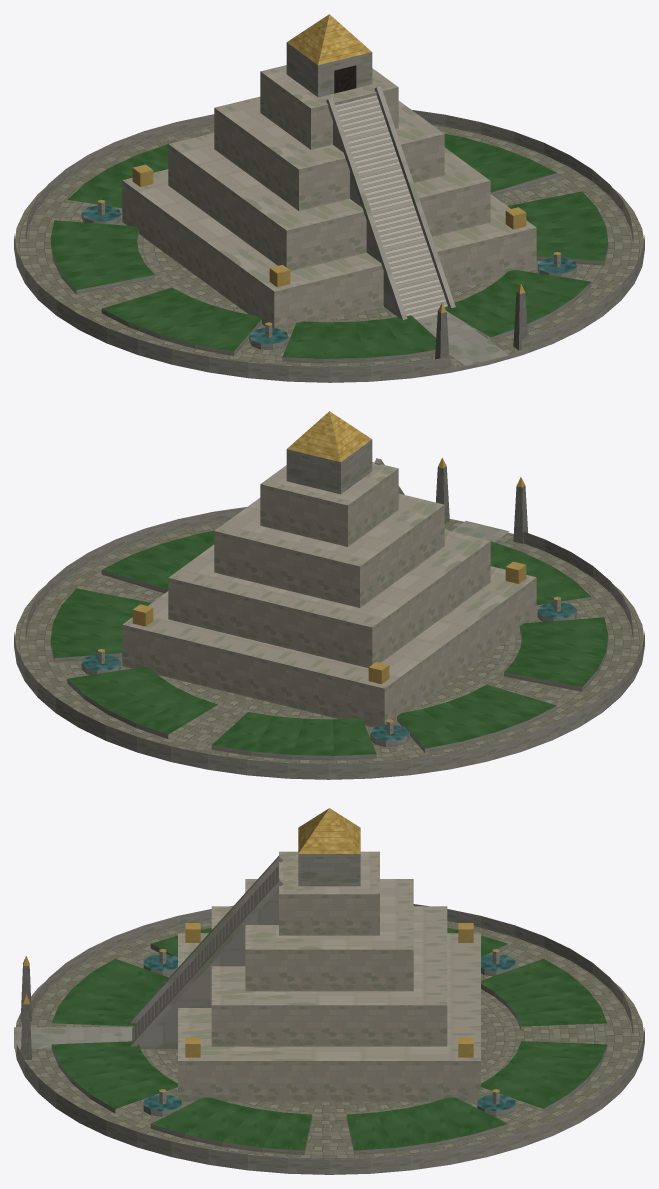
The model's file is pyramid_large_lod0.glb.
The picture shows the model from 3 angles, top to bottom: view 1: azimuth 30°, elevation 25°; view 2: azimuth 150°, elevation 25°; view 3: azimuth 270°, elevation 25°; orthographic projection.
Parts seen in each view (by area): view 1: pyramid_large_lod0; view 2: pyramid_large_lod0; view 3: pyramid_large_lod0.
Boxes of the visible parts, x1,y1,x2,y2 form: pyramid_large_lod0: (14, 14, 644, 382); pyramid_large_lod0: (14, 411, 644, 779); pyramid_large_lod0: (14, 808, 644, 1174).
Size of the model in its own units: 1.89 by 0.779 by 1.9.
Materials: 1 (1 with a texture image).
